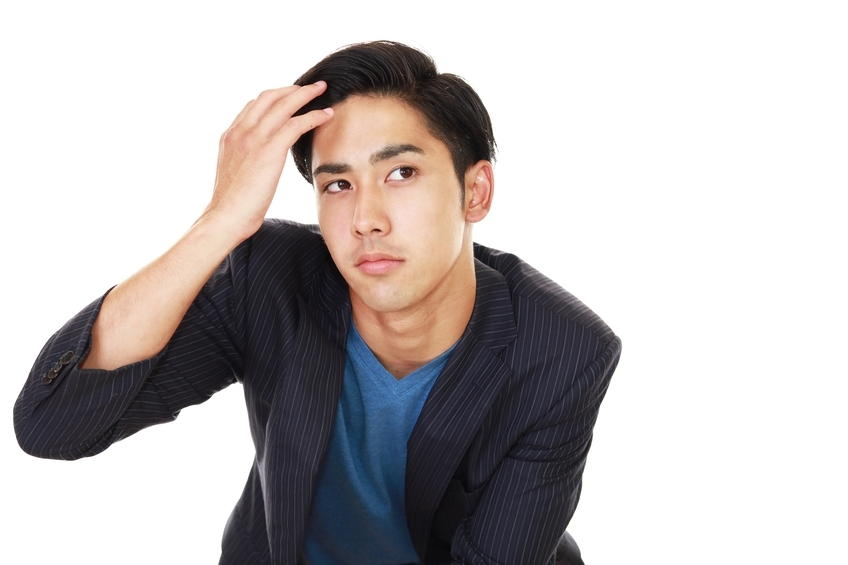face: (310, 91, 495, 311)
hand: (212, 78, 335, 238)
